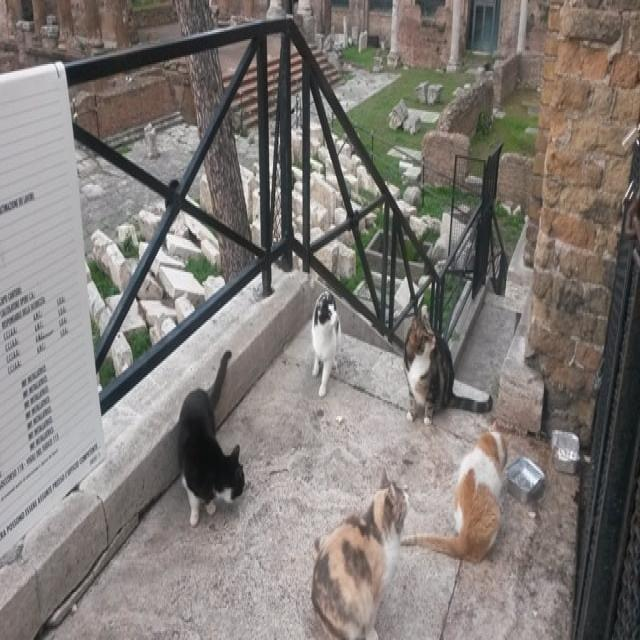cat: (311, 471, 409, 639), (402, 422, 510, 561), (179, 351, 244, 526), (404, 304, 492, 424), (311, 291, 341, 397)
